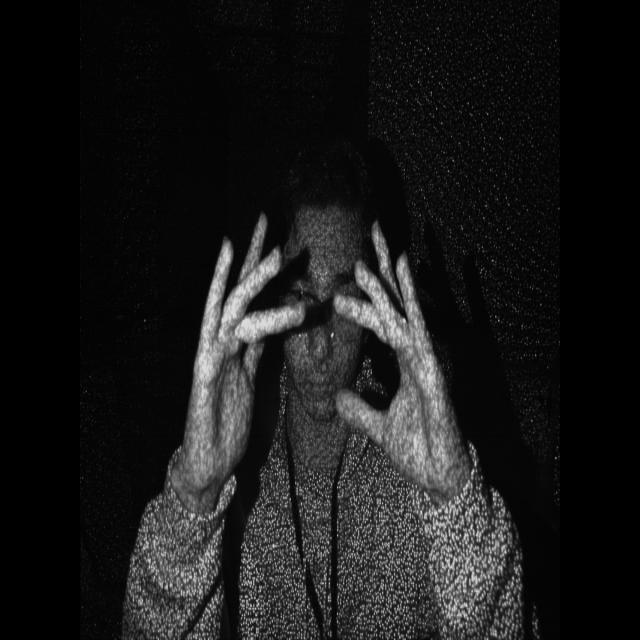REACH: (184, 193, 463, 510)
